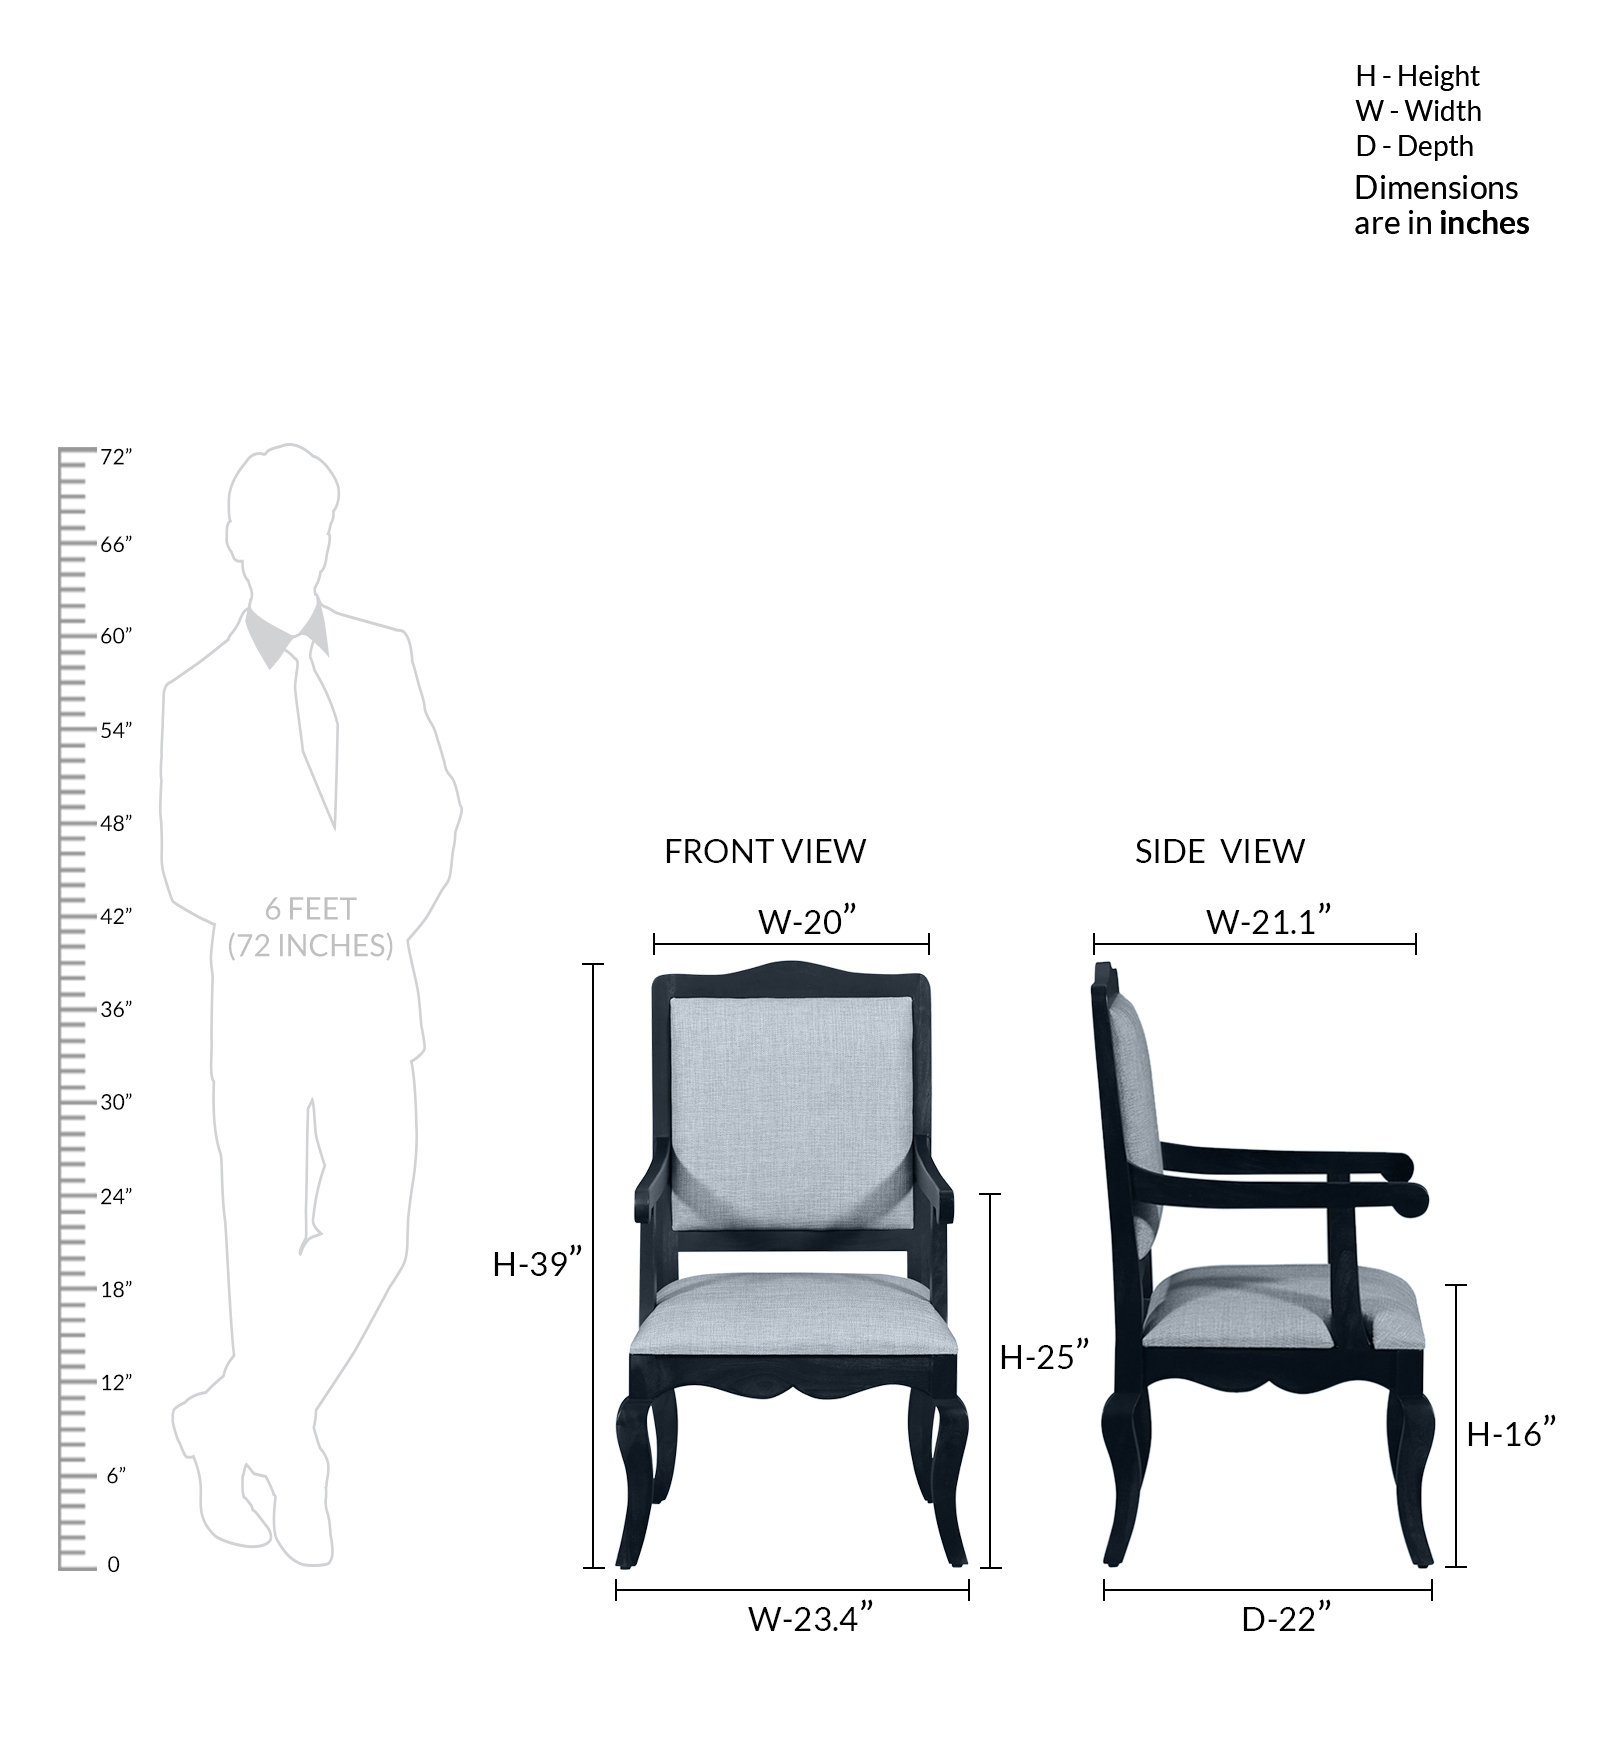Anne Arm Chair in Warm Chestnut Finish by Amberville: (618, 955, 981, 1585), (1076, 966, 1444, 1578)
